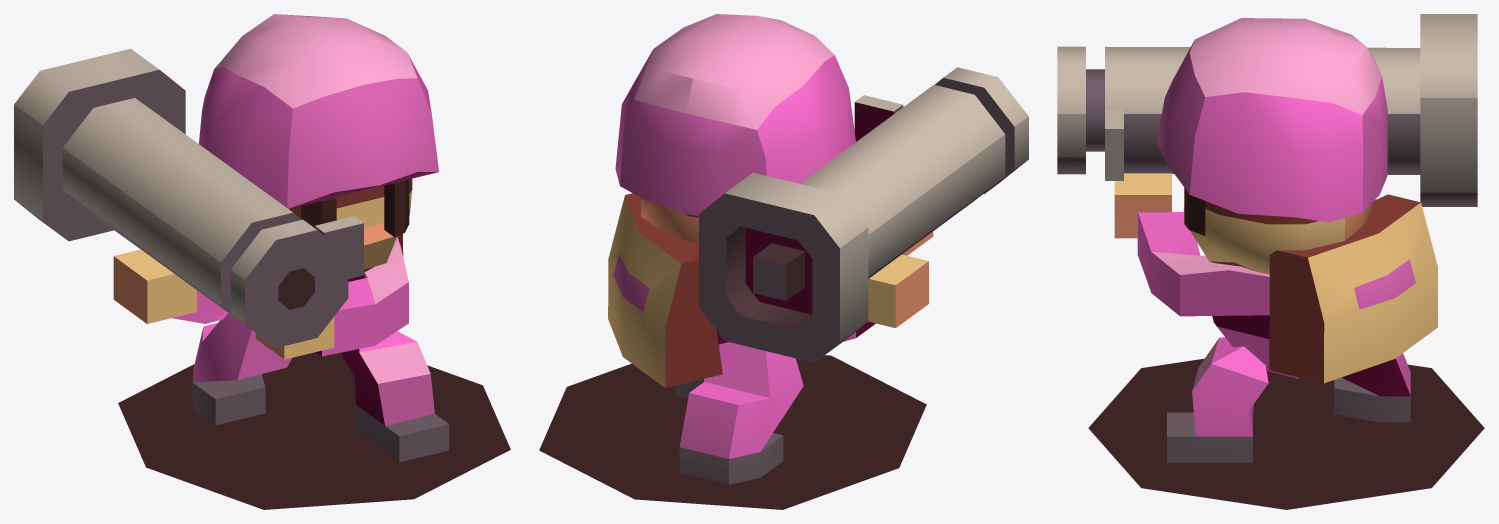
The model's file is MechMesh.PinkCosmos.glb.
The picture shows the model from 3 angles, left to right: view 1: azimuth 30°, elevation 25°; view 2: azimuth 150°, elevation 25°; view 3: azimuth 270°, elevation 25°; orthographic projection.
Parts seen in each view (by area): view 1: MechMesh.PinkCosmos; view 2: MechMesh.PinkCosmos; view 3: MechMesh.PinkCosmos.
Boxes of the visible parts, <box> form: MechMesh.PinkCosmos: <box>14,14,510,509</box>; MechMesh.PinkCosmos: <box>539,14,1028,509</box>; MechMesh.PinkCosmos: <box>1057,14,1484,509</box>.
Size of the model in its own units: 2.24 by 2.3 by 2.24.
1 material, 1 textured.
